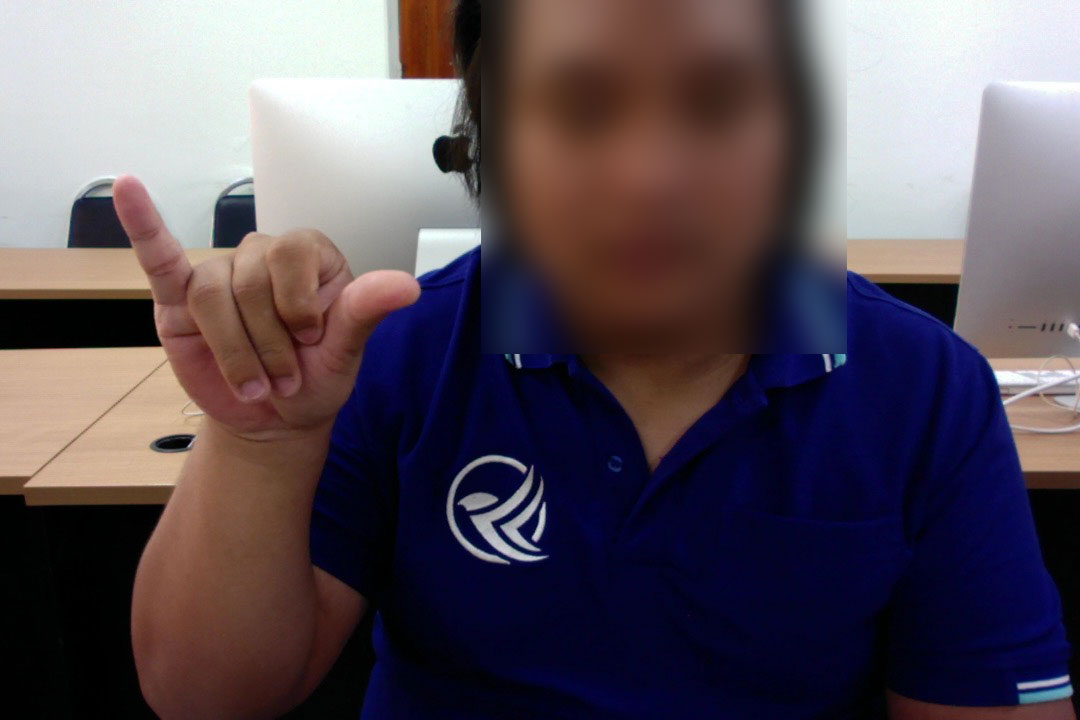yor: (104, 163, 431, 469)
